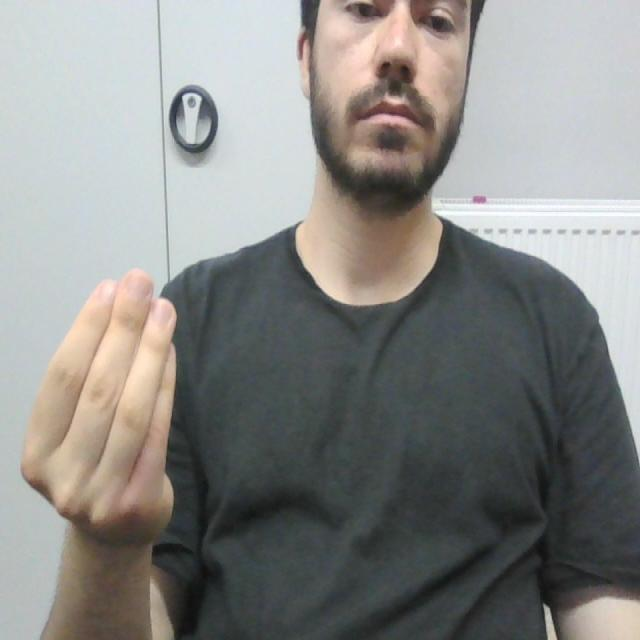iyi: (18, 251, 180, 572)
